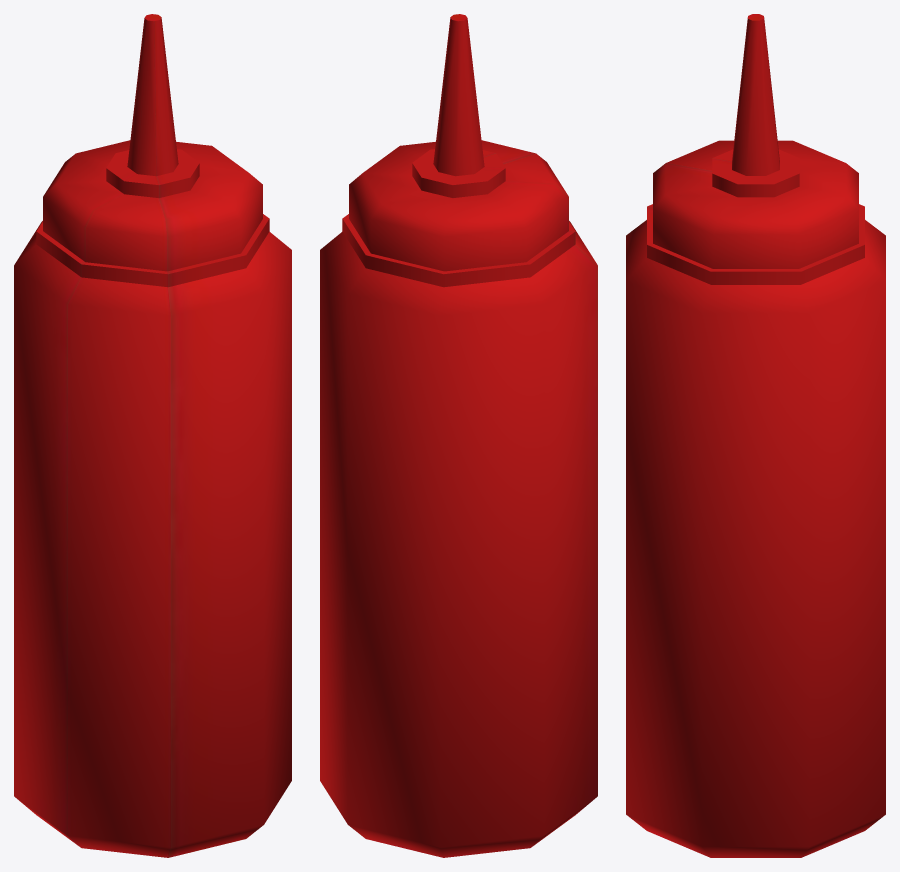
File: ketchup-bottle.glb
3 views of the same model, side by side, from view 1: azimuth 30°, elevation 25°; view 2: azimuth 150°, elevation 25°; view 3: azimuth 270°, elevation 25° (orthographic).
Visible parts, largest first — view 1: SM_Ketchup_Utensils_0; view 2: SM_Ketchup_Utensils_0; view 3: SM_Ketchup_Utensils_0.
Boxes of the visible parts, box(x1,y1,x2,y2) form: SM_Ketchup_Utensils_0: box(14, 14, 291, 857); SM_Ketchup_Utensils_0: box(320, 14, 597, 857); SM_Ketchup_Utensils_0: box(626, 14, 885, 857).
Bounding box in the file's own units: 0.0817 × 0.2755 × 0.0817.
1 material, 1 textured.
